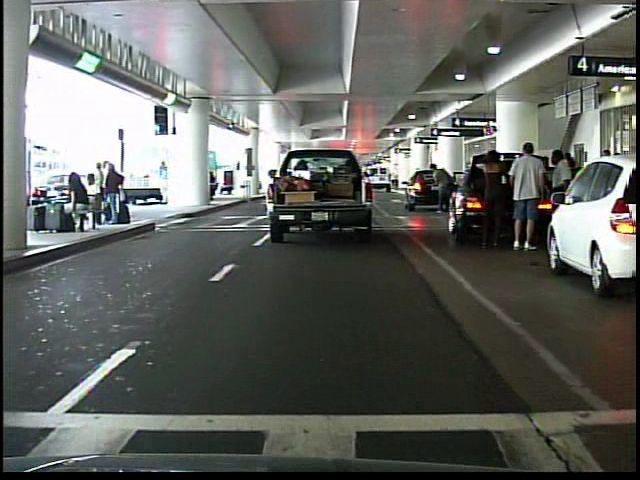person: (506, 139, 546, 253), (472, 139, 511, 255), (544, 144, 577, 254), (427, 157, 453, 218), (156, 159, 172, 205)
